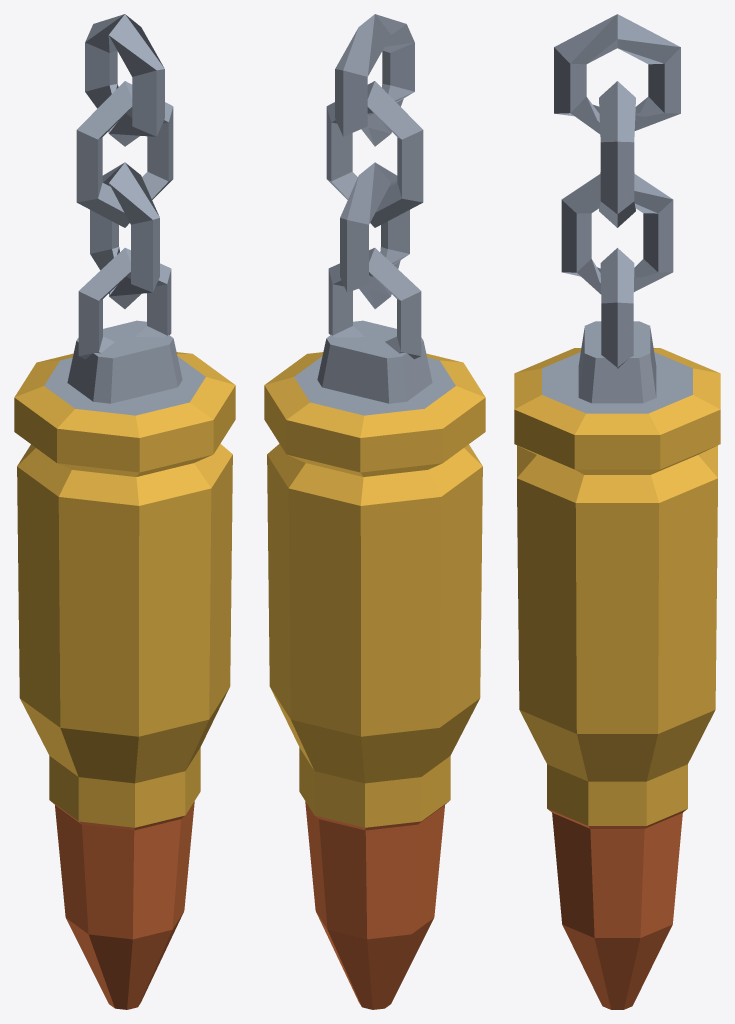
File: BrassBullet.fbx
The picture shows the model from 3 angles, left to right: view 1: azimuth 30°, elevation 25°; view 2: azimuth 150°, elevation 25°; view 3: azimuth 270°, elevation 25°; orthographic projection.
Visible parts, largest first — view 1: Body_Bullet_Brass, Body_Bullet_Copper, Chain, Body_Chain_Metal; view 2: Body_Bullet_Brass, Body_Bullet_Copper, Chain, Body_Chain_Metal; view 3: Body_Bullet_Brass, Chain, Body_Bullet_Copper, Body_Chain_Metal.
Part boxes in pixels (bbox=[...]): Body_Bullet_Brass: bbox=[14, 352, 235, 827]; Body_Bullet_Copper: bbox=[51, 801, 194, 1009]; Chain: bbox=[76, 14, 173, 308]; Body_Chain_Metal: bbox=[44, 248, 205, 415]; Body_Bullet_Brass: bbox=[264, 352, 485, 827]; Body_Bullet_Copper: bbox=[305, 801, 448, 1009]; Chain: bbox=[326, 14, 423, 308]; Body_Chain_Metal: bbox=[294, 248, 455, 415]; Body_Bullet_Brass: bbox=[514, 348, 720, 825]; Chain: bbox=[554, 14, 680, 294]; Body_Bullet_Copper: bbox=[548, 809, 686, 1009]; Body_Chain_Metal: bbox=[542, 248, 692, 413].
Bounding box in the file's own units: 0.0758 × 0.4009 × 0.0758.
